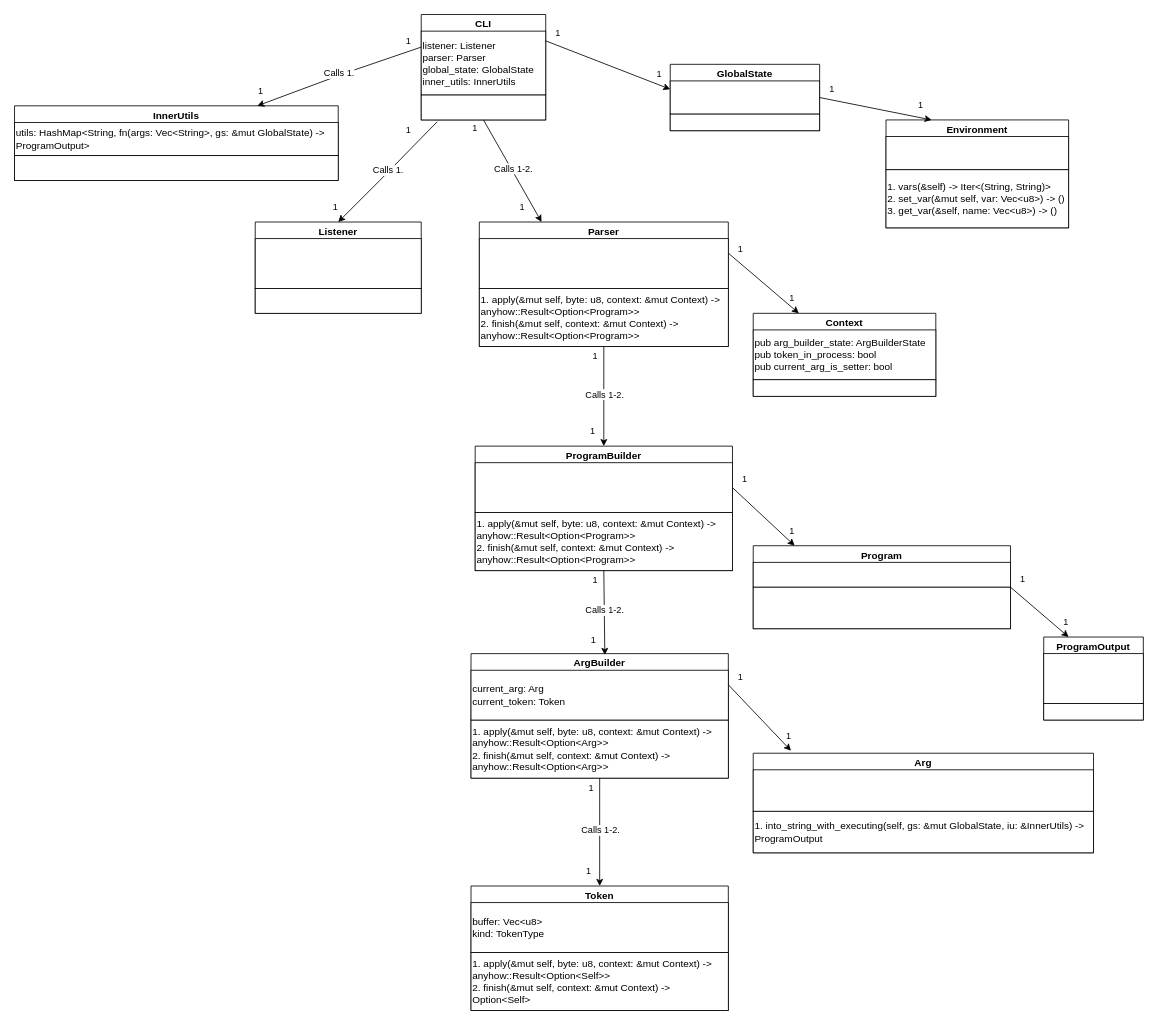
This 1158x1025 diagram has some shape labels left out. Here are the shapes that lost their labels. From the top down, the centre of each, then its label:
point (483, 107): 1. start()
point (744, 97): pub environment: Environment
point (176, 168): 1. execute(&self, program: ..., gs: &mut GlobalState) -> ProgramOutput
point (977, 153): map: HashMap<String, String>
point (603, 263): program_builder: ProgramBuilder context: Context
point (337, 300): 1. listen(&self) -> String
point (603, 487): current_program: Program arg_builder: ArgBuilder
point (881, 574): data: Vec<Arg>
point (881, 607): 1. execute(self, gs: &mut GlobalState, iu: &InnerUtils) -> ProgramOutput
point (1093, 678): pub code: i32 pub stdout: Vec<u8> pub stderr: Vec<u8>
point (923, 790): data: Vec<Token> kind: ArgType
